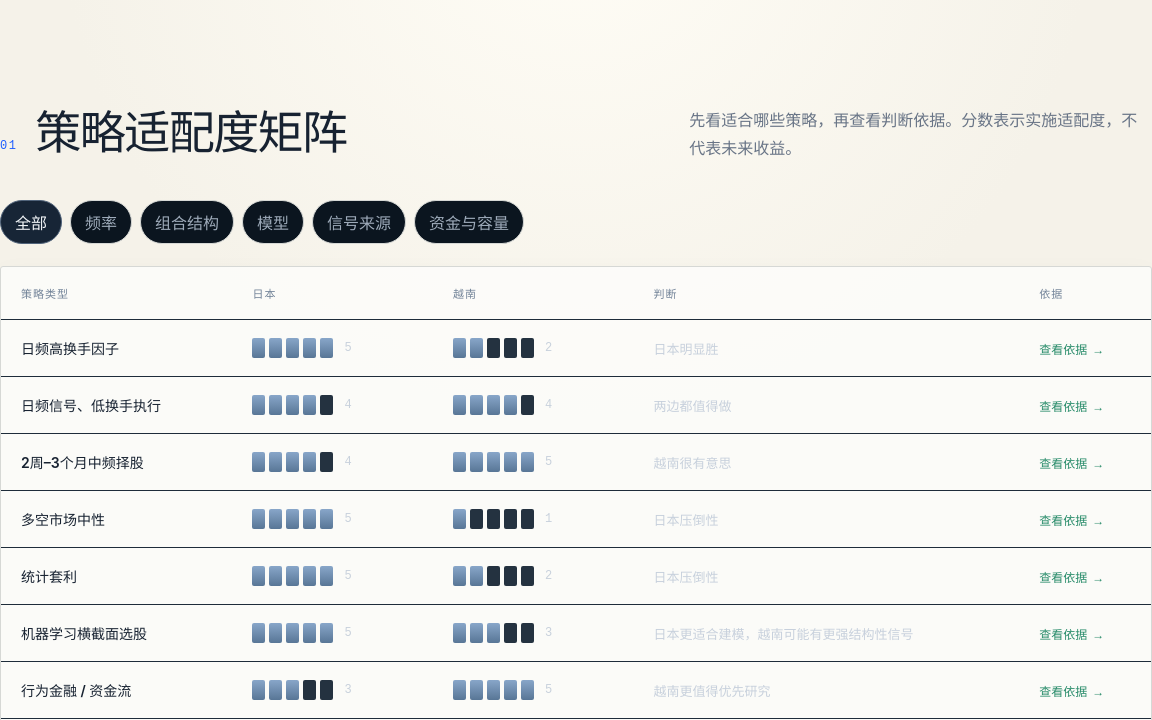
Scenario: StrategyHeatmap › filters rows by category and exposes accessible market scores
Expected: the element named "日频高换手因子，日本适配度 5 / 5" is shown, [252, 338, 352, 358]
Step 1. Click the button "组合结构" → (187, 222), box [140, 200, 234, 244]
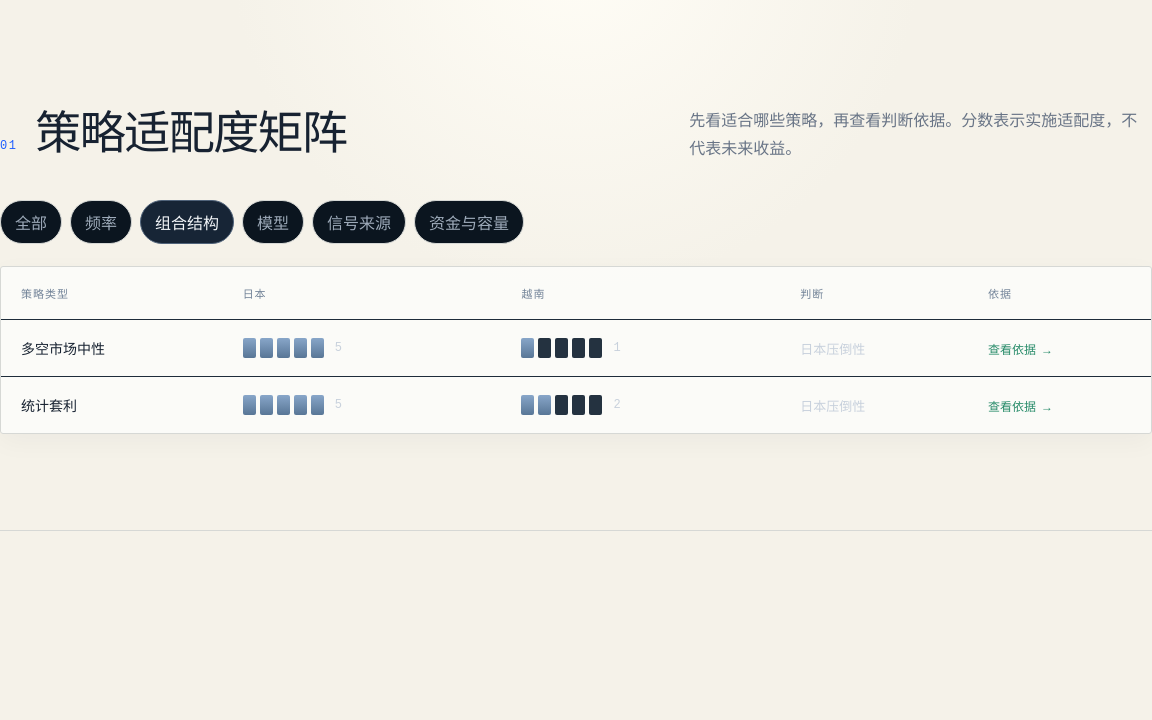
Expected: the column heading "多空市场中性" is shown, [1, 320, 223, 376]
Expected: the column heading "行为金融 / 资金流" is gone
